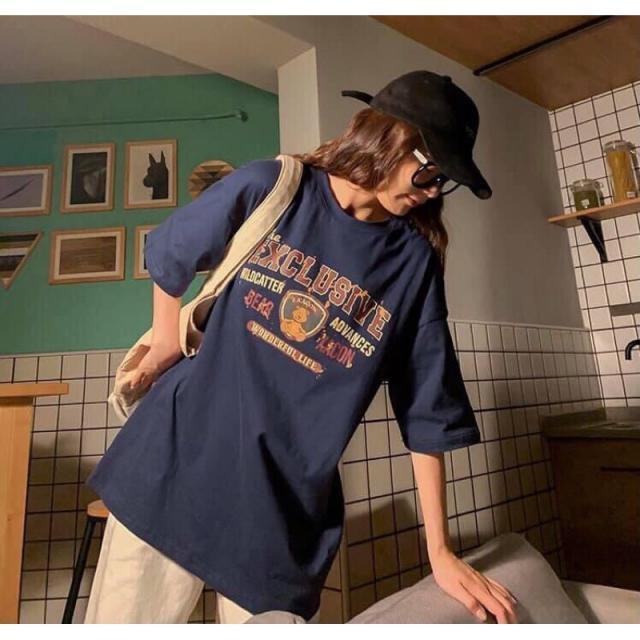short sleeve shirt: (84, 154, 486, 621)
trousers: (78, 505, 324, 627)
